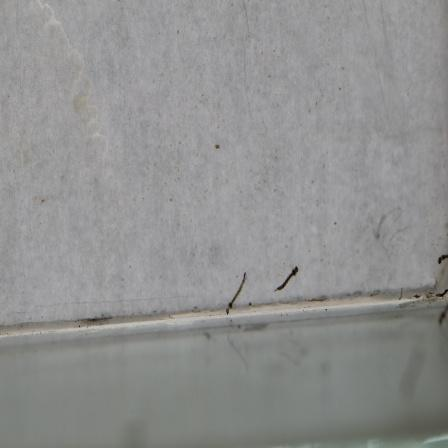Jentik-Nyamuk: (222, 267, 249, 315), (273, 262, 301, 297)
